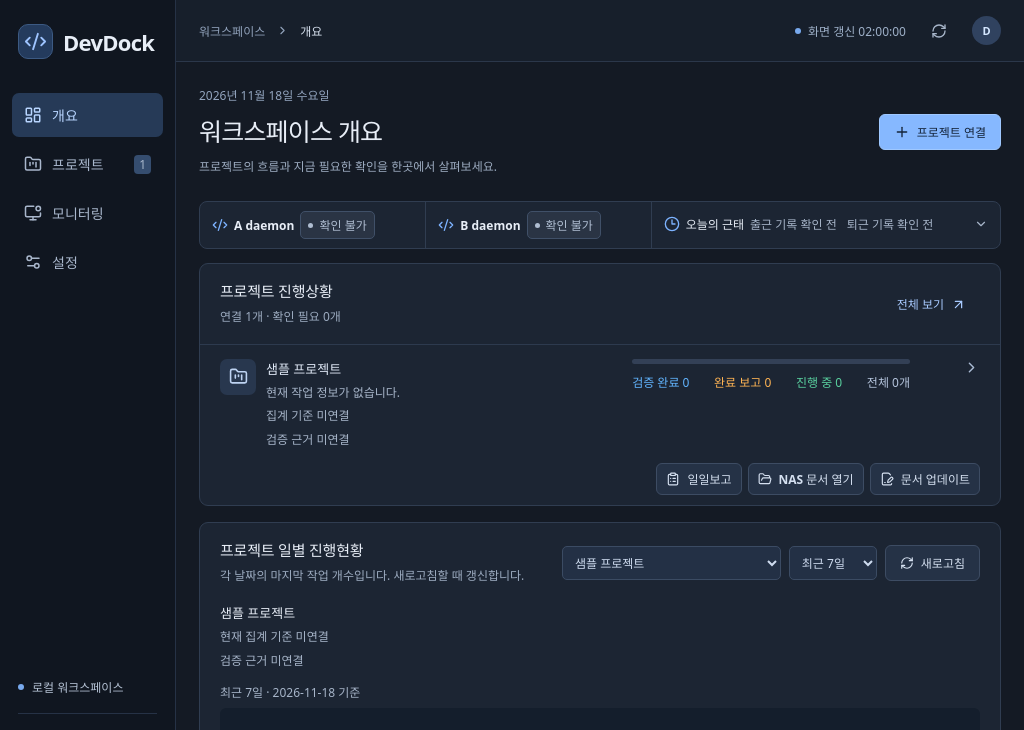
opens the row report without selecting project detail and provides a NAS settings link
Click the button with aria-label "샘플 프로젝트 일일보고": (699, 479) [656,463,742,495]
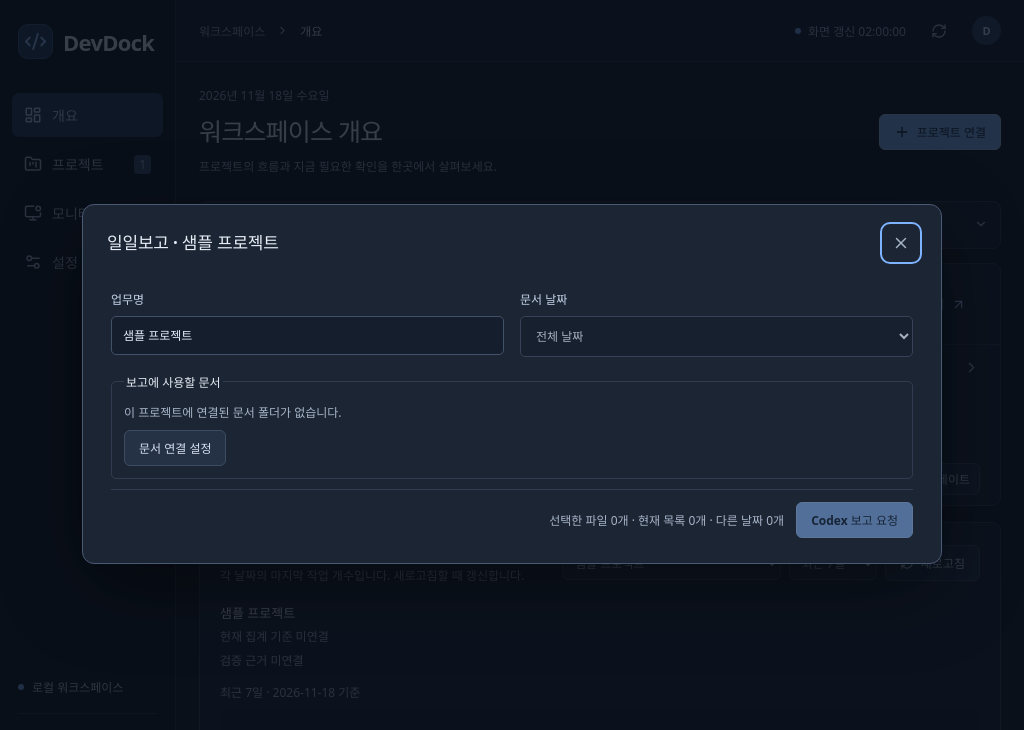
Now the dialog "일일보고 · 샘플 프로젝트" is shown, box [82,204,942,564]
Press Escape
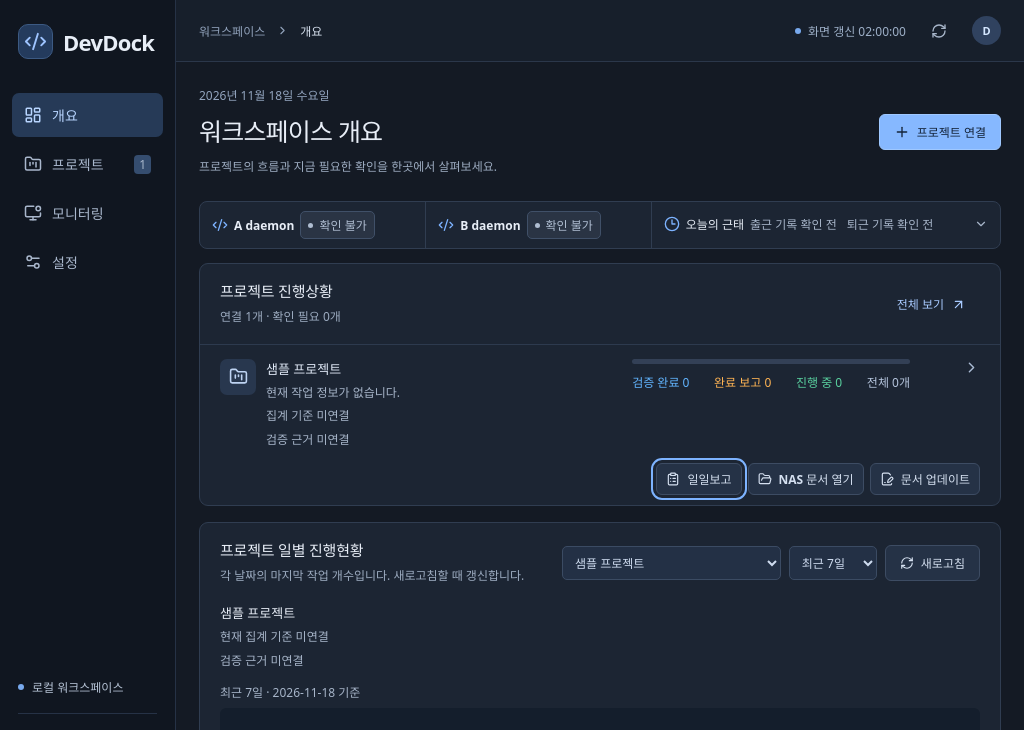
Click the button with aria-label "샘플 프로젝트 NAS 문서 열기": (806, 479) [748,463,864,495]
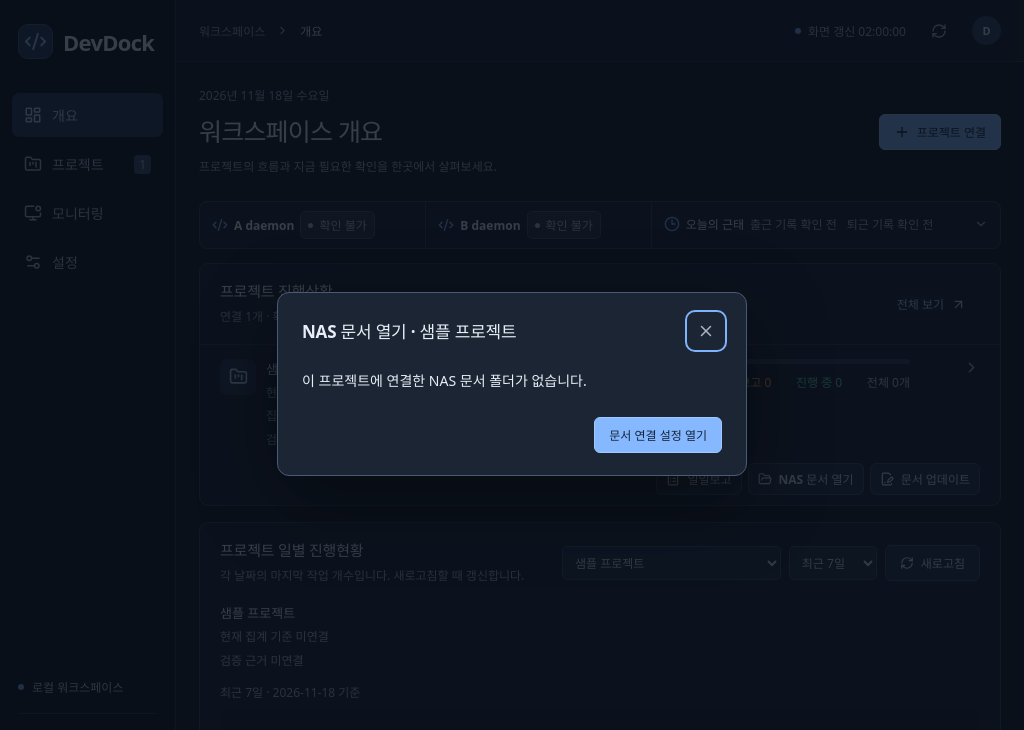
Now the text "이 프로젝트에 연결한 NAS 문서 폴더가 없습니다." is shown, box [302,372,587,390]
Click the button "문서 연결 설정 열기": (658, 434) [594,416,722,452]
(page scrolled)
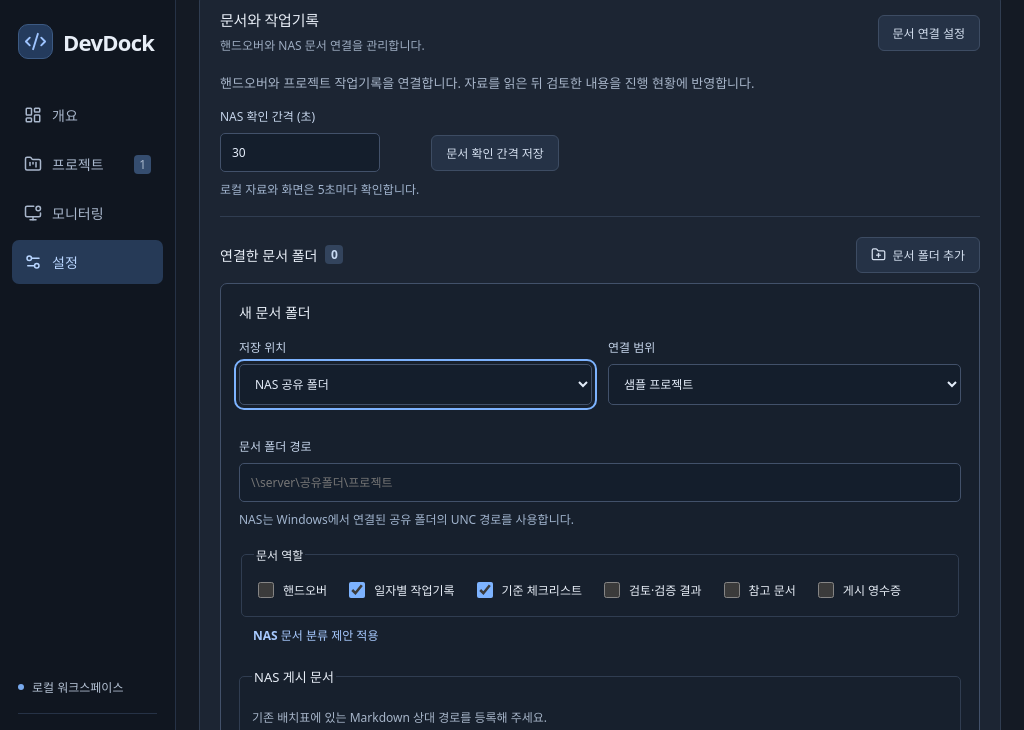
Now the button "문서 폴더 추가" is shown, box [856,237,980,273]
Now the dropdown labelled "저장 위치" shows "NAS 공유 폴더", box [239,364,592,405]
